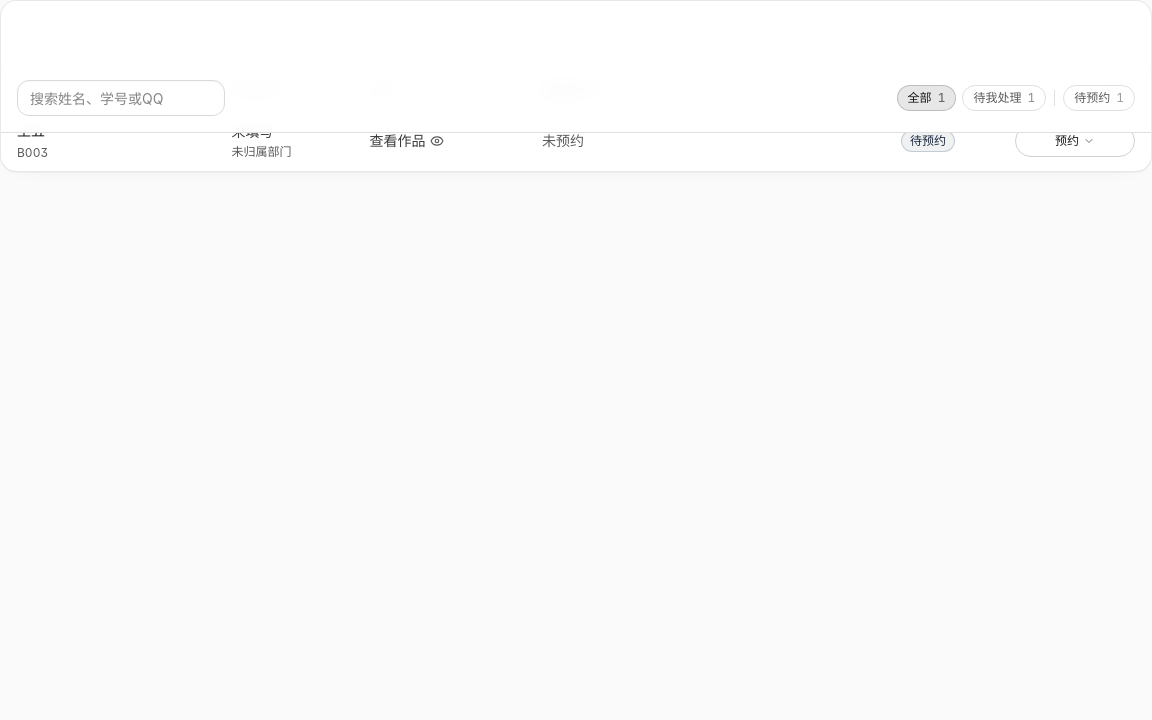
Scenario: EvaluationTable › opens portfolio link and description from the work button
Click the button "查看作品" at (406, 140), box [370, 130, 444, 150]
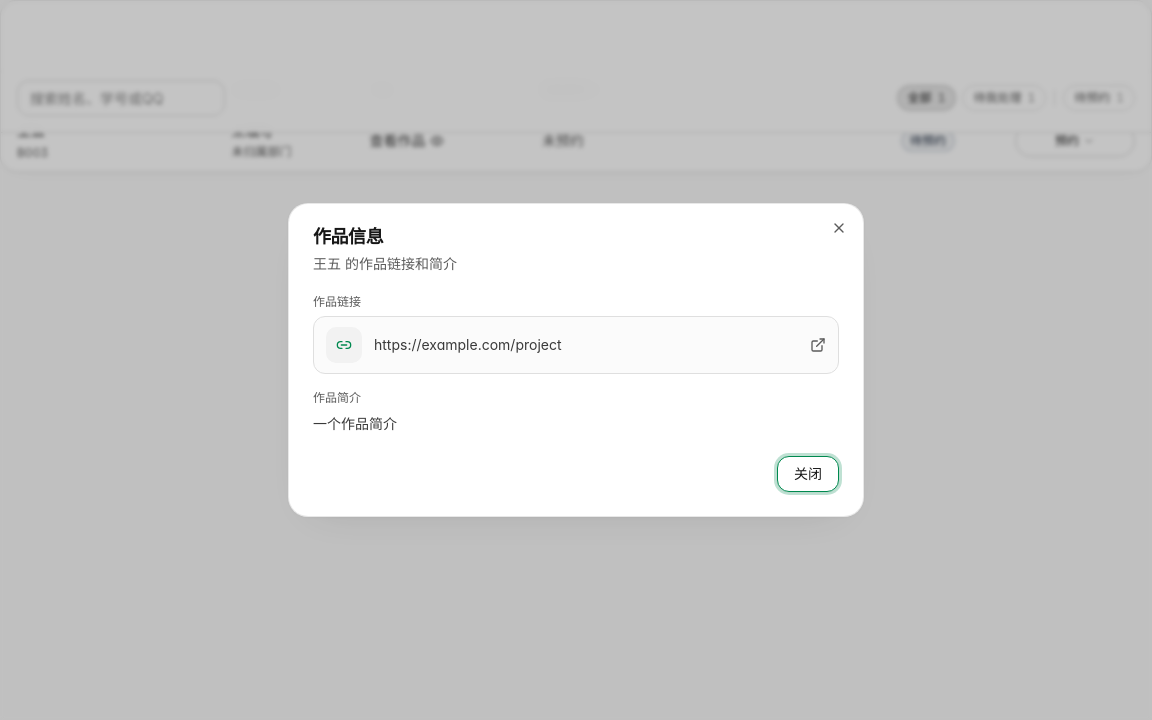
Expected: the dialog shows "一个作品简介", [313, 415, 397, 432]
Expected: the link to "https://example.com/project" is shown, [313, 316, 839, 374]
